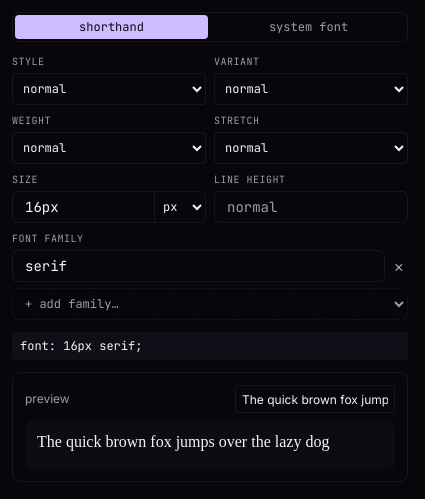
Test: FontEditorPanel — field controls › a bare unit (no number) marks the unit select opaque, not a real unit
Replace the text in the field named "Font size" with "px": (83, 207) [12,191,154,223]
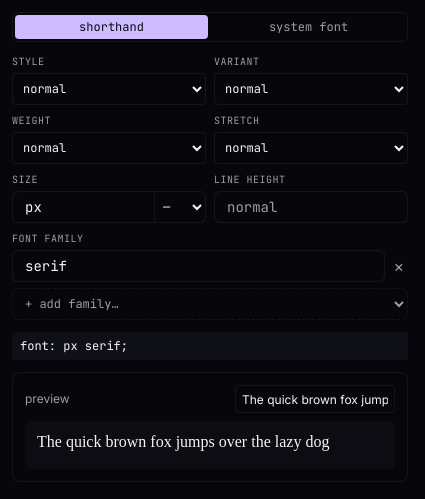
Now the dropdown named "Font size unit" shows "—", box [154,191,206,223]
